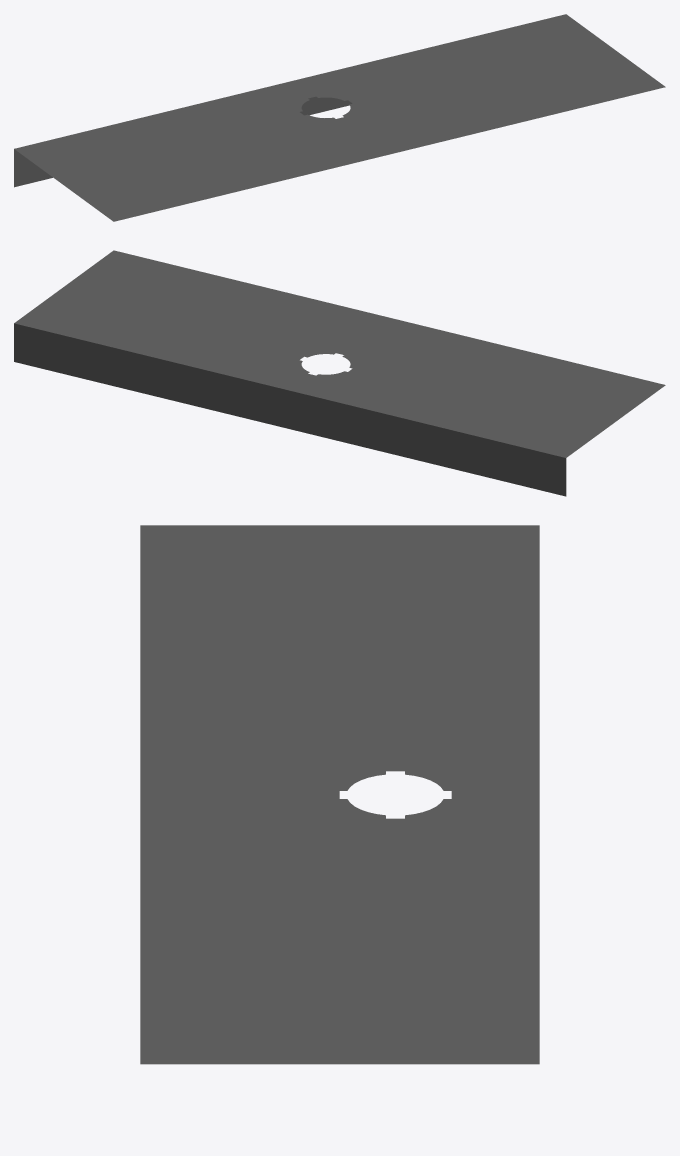
File: Room_ElevatorGap_Fill.fbx
The picture shows the model from 3 angles, top to bottom: view 1: azimuth 30°, elevation 25°; view 2: azimuth 150°, elevation 25°; view 3: azimuth 270°, elevation 25°; orthographic projection. The views are drawn at different scales.
Visible parts, largest first — view 1: Plane; view 2: Plane; view 3: Plane.
Boxes of the visible parts, x1,y1,x2,y2 form: Plane: [14, 14, 665, 221]; Plane: [14, 250, 665, 496]; Plane: [140, 525, 539, 1064].
Bounding box in the file's own units: 1500 × 100 × 469.
